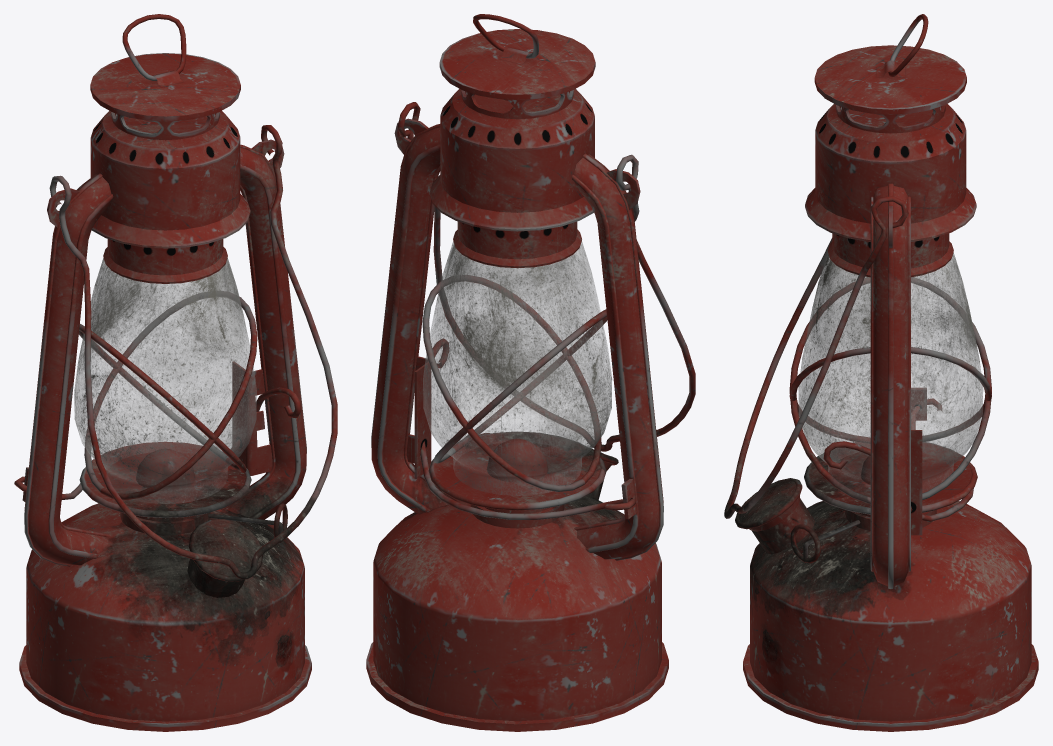
The picture shows the model from 3 angles, left to right: view 1: azimuth 30°, elevation 25°; view 2: azimuth 150°, elevation 25°; view 3: azimuth 270°, elevation 25°; orthographic projection. The views are drawn at different scales.
Visible parts, largest first — view 1: lamp, glass; view 2: lamp, glass; view 3: lamp, glass.
Boxes of the visible parts, x1,y1,x2,y2 form: lamp: (14,14,337,731); glass: (74,258,256,503); lamp: (366,14,695,731); glass: (423,241,612,495); lamp: (724,14,1038,731); glass: (798,253,983,494).
Size of the model in its own units: 0.0351 by 0.0767 by 0.0337.
2 materials, 2 textured.
